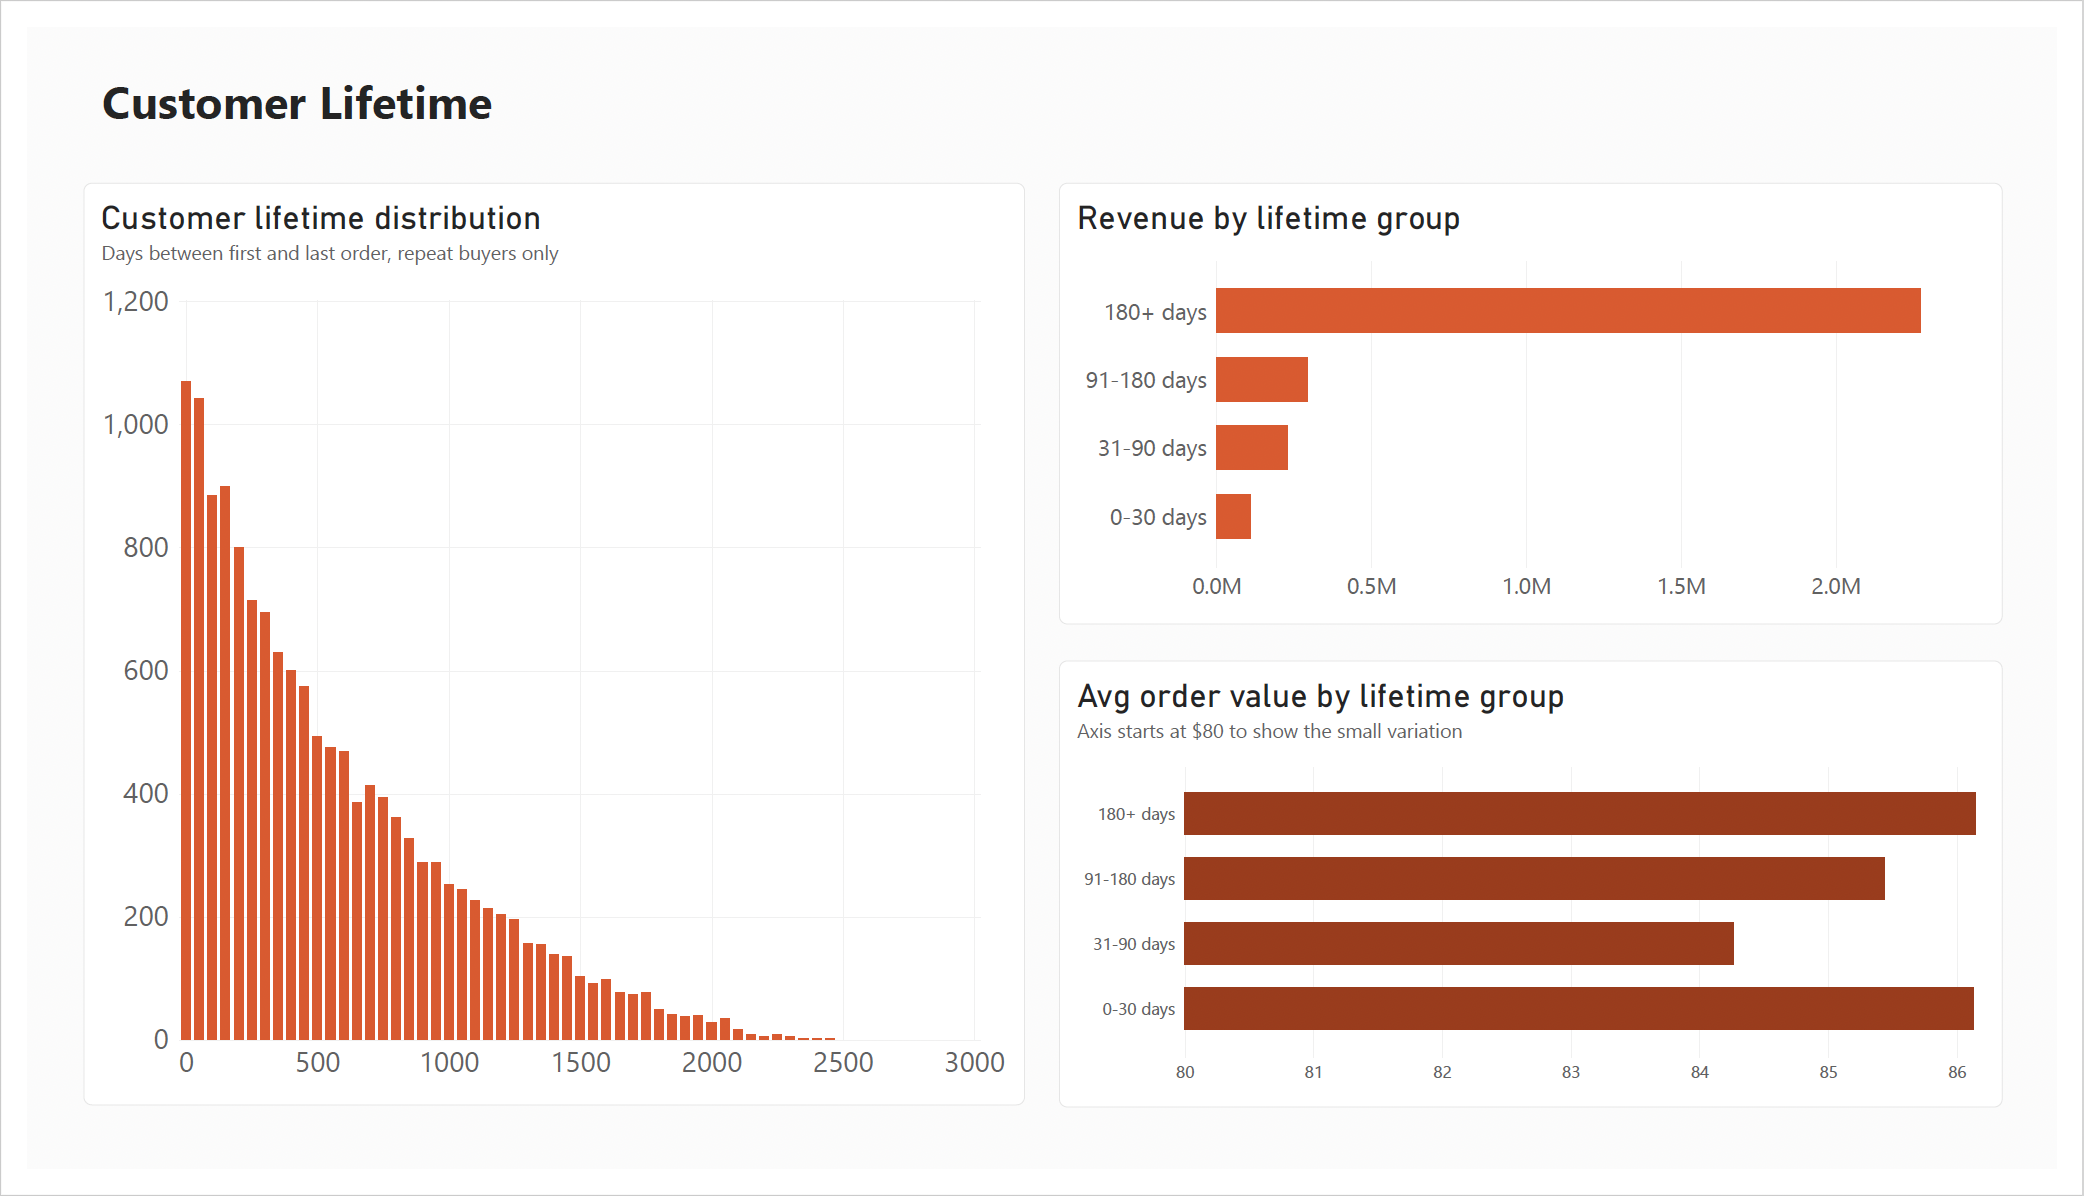

This screenshot's page, from the dashboard's own definition file:
{"tool":"powerbi","page":{"name":"Customer Lifetime","canvas":[1920,1080],"ordinal":7},"visuals":[{"type":"clusteredColumnChart","title":"Customer lifetime distribution","fields":{"Category":["users.Customer Lifetime (Days) (bins)"],"Y":["CountNonNull(users.id)"]},"box":[52.8,147,891.1,872.7],"z":0},{"type":"clusteredBarChart","title":"Revenue by lifetime group","fields":{"Category":["users.Lifetime Group"],"Y":["order_items.Revenue"]},"box":[976.1,147,893.4,418],"z":1000},{"type":"textbox","box":[71.2,41.3,1208,82.7],"z":2000},{"type":"clusteredBarChart","title":"Avg order value by lifetime group","fields":{"Category":["users.Lifetime Group"],"Y":["order_items.Avg Order Value"]},"box":[976.1,599.4,893.4,422.6],"z":3000}]}

Visuals, with their boxes in screenshot pixels (x1, y1, x2, y2), scaled from the page's 1920x1080 canvas onto the 2084x1196 screenshot:
"Customer lifetime distribution" clusteredColumnChart: select_region(57, 163, 1025, 1129)
"Revenue by lifetime group" clusteredBarChart: select_region(1059, 163, 2029, 626)
textbox: select_region(77, 46, 1388, 137)
"Avg order value by lifetime group" clusteredBarChart: select_region(1059, 664, 2029, 1132)
